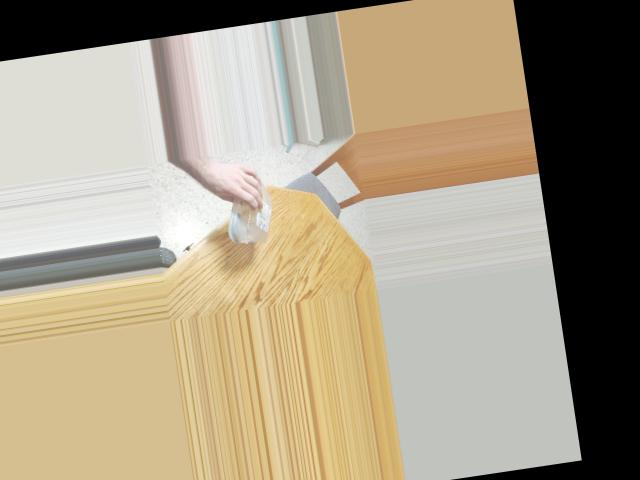cheese: (218, 168, 273, 228)
